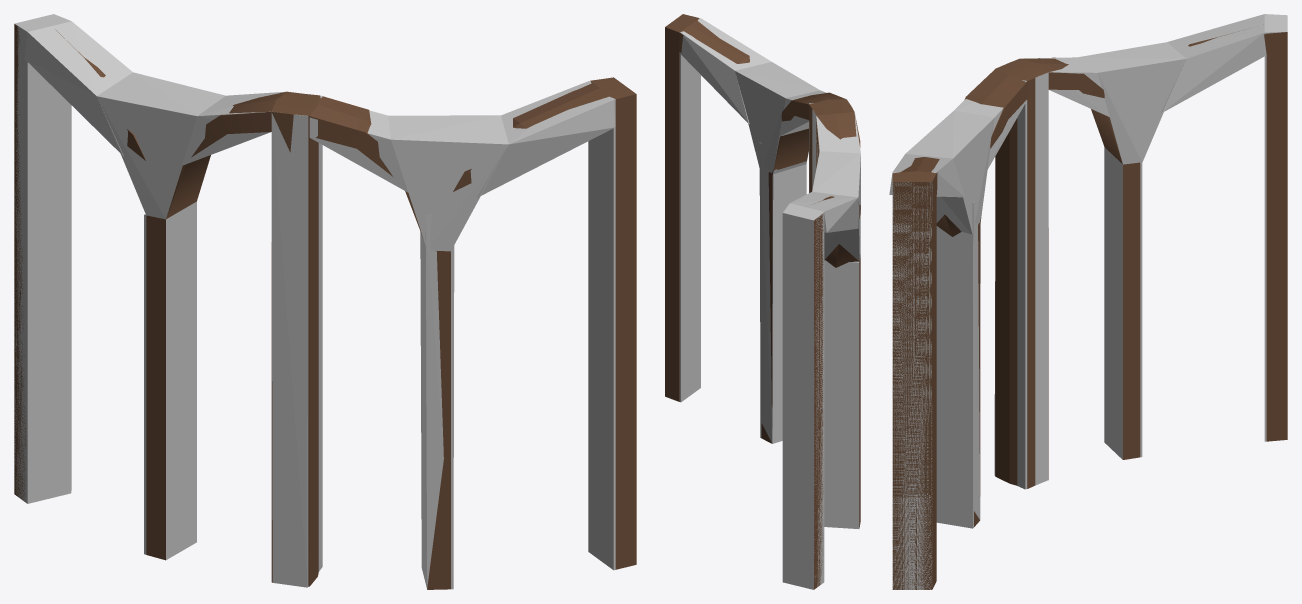
Rendered from SM_Bld_Wall_Frame_Curved_02.fbx.
The picture shows the model from 3 angles, left to right: view 1: azimuth 30°, elevation 25°; view 2: azimuth 150°, elevation 25°; view 3: azimuth 270°, elevation 25°; orthographic projection. The views are drawn at different scales.
Parts seen in each view (by area): view 1: SM_Bld_Wall_Frame_Curved_02_ConvexHulls, SM_Bld_Wall_Frame_Curved_02; view 2: SM_Bld_Wall_Frame_Curved_02_ConvexHulls, SM_Bld_Wall_Frame_Curved_02; view 3: SM_Bld_Wall_Frame_Curved_02_ConvexHulls, SM_Bld_Wall_Frame_Curved_02.
Part boxes in pixels (x1,y1,x2,y2): SM_Bld_Wall_Frame_Curved_02_ConvexHulls: (14,14,615,589); SM_Bld_Wall_Frame_Curved_02: (14,24,636,589); SM_Bld_Wall_Frame_Curved_02_ConvexHulls: (679,18,860,589); SM_Bld_Wall_Frame_Curved_02: (665,14,860,589); SM_Bld_Wall_Frame_Curved_02_ConvexHulls: (889,14,1287,589); SM_Bld_Wall_Frame_Curved_02: (892,31,1287,589).
Size of the model in its own units: 265 by 265 by 301.
Materials: 2 (1 with a texture image).
